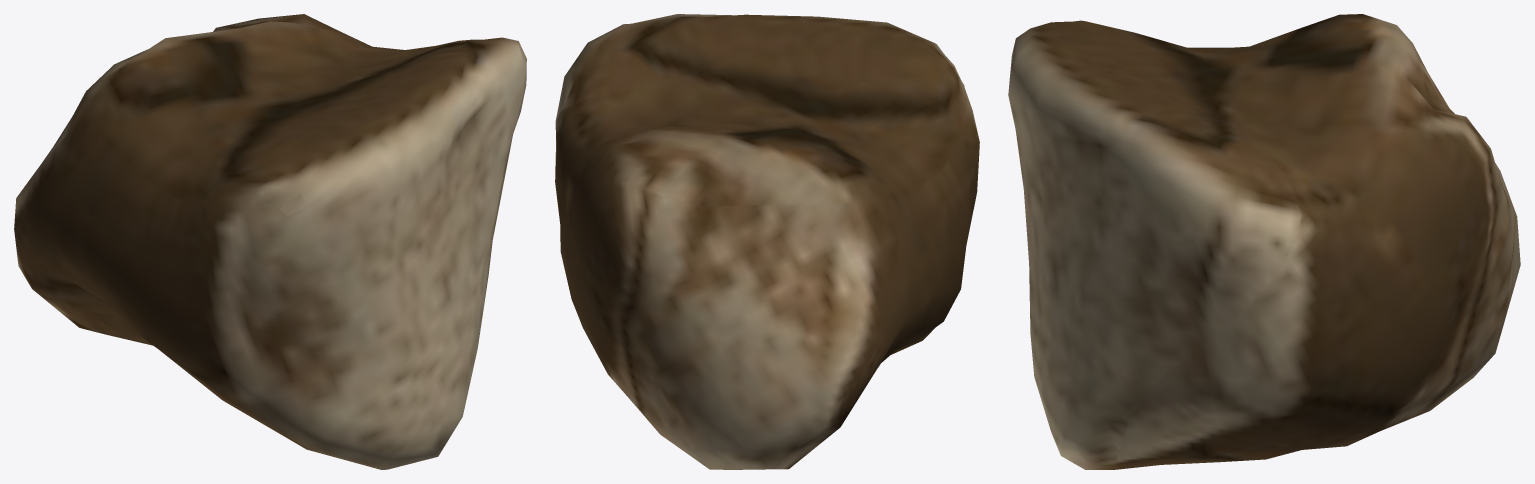
File: Intermediate_Carpal.glb
3 renders of one model, left to right at view 1: azimuth 30°, elevation 25°; view 2: azimuth 150°, elevation 25°; view 3: azimuth 270°, elevation 25°, orthographic. The views are drawn at different scales.
Parts seen in each view (by area): view 1: L_Frt_Intermediate_Carpal; view 2: L_Frt_Intermediate_Carpal; view 3: L_Frt_Intermediate_Carpal.
Boxes of the visible parts, <box> form: L_Frt_Intermediate_Carpal: <box>14,14,526,469</box>; L_Frt_Intermediate_Carpal: <box>555,14,979,469</box>; L_Frt_Intermediate_Carpal: <box>1008,14,1520,469</box>.
Size of the model in its own units: 0.0373 by 0.0314 by 0.0374.
1 material, 1 textured.
